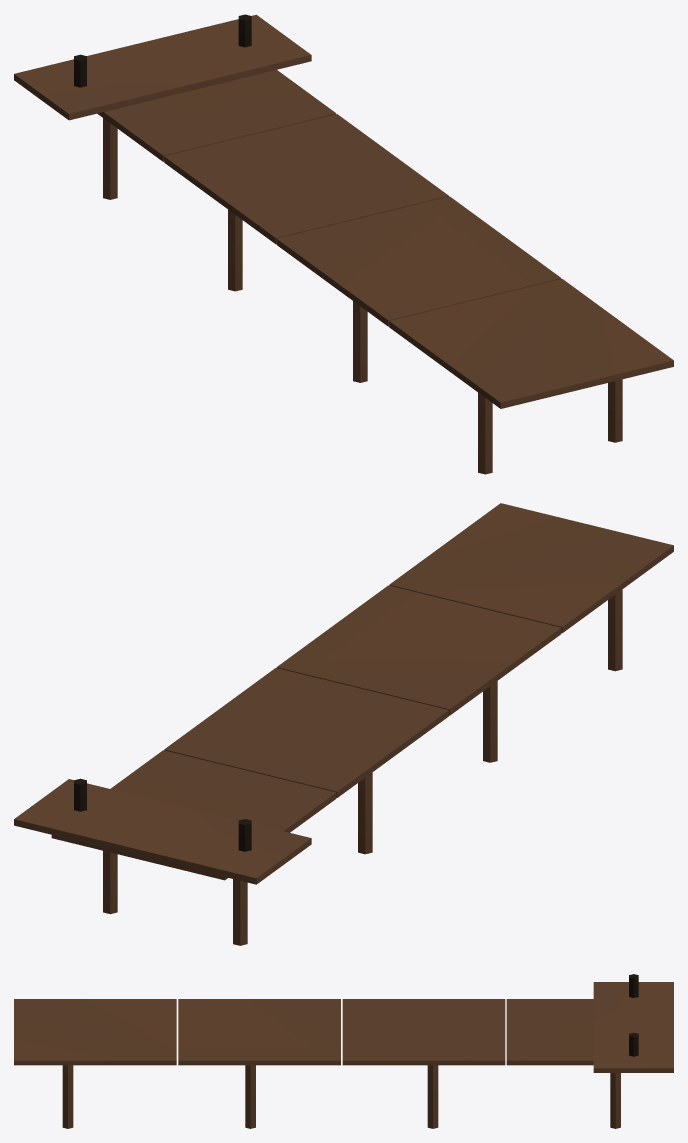
The model's file is republic_pier_lod1.glb.
The picture shows the model from 3 angles, top to bottom: view 1: azimuth 30°, elevation 25°; view 2: azimuth 150°, elevation 25°; view 3: azimuth 270°, elevation 25°; orthographic projection. The views are drawn at different scales.
Parts seen in each view (by area): view 1: GEO-Arch_republic_pier_LOD1; view 2: GEO-Arch_republic_pier_LOD1; view 3: GEO-Arch_republic_pier_LOD1.
Part boxes in pixels (bbox=[...]): GEO-Arch_republic_pier_LOD1: bbox=[14, 14, 673, 474]; GEO-Arch_republic_pier_LOD1: bbox=[14, 503, 673, 945]; GEO-Arch_republic_pier_LOD1: bbox=[14, 974, 673, 1128].
Size of the model in its own units: 5.6 by 2.95 by 18.08.
